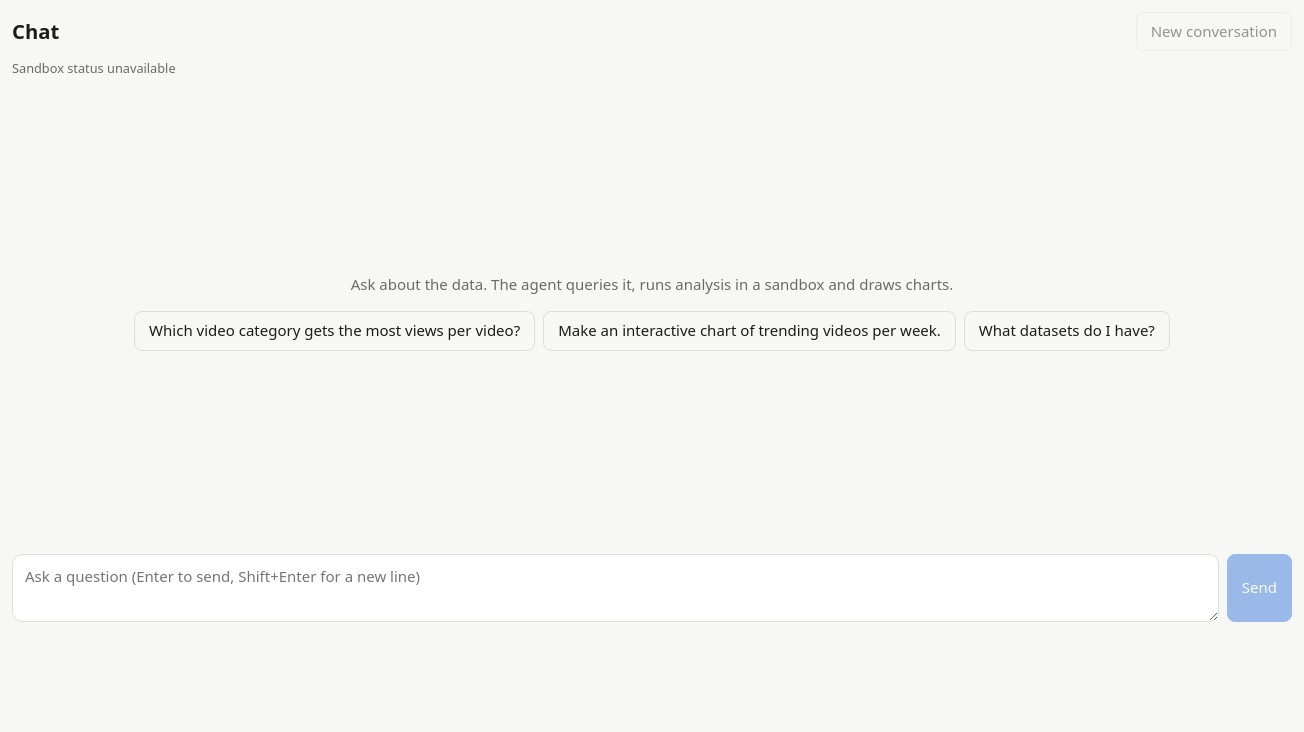
it: ChatPage › shows why a message was refused
The image size is (1304, 732).
Type "hi" into the text box named "Message".
click(615, 588); type("hi")  # box top-left (12, 554), bottom-right (1219, 622)
Then press Enter
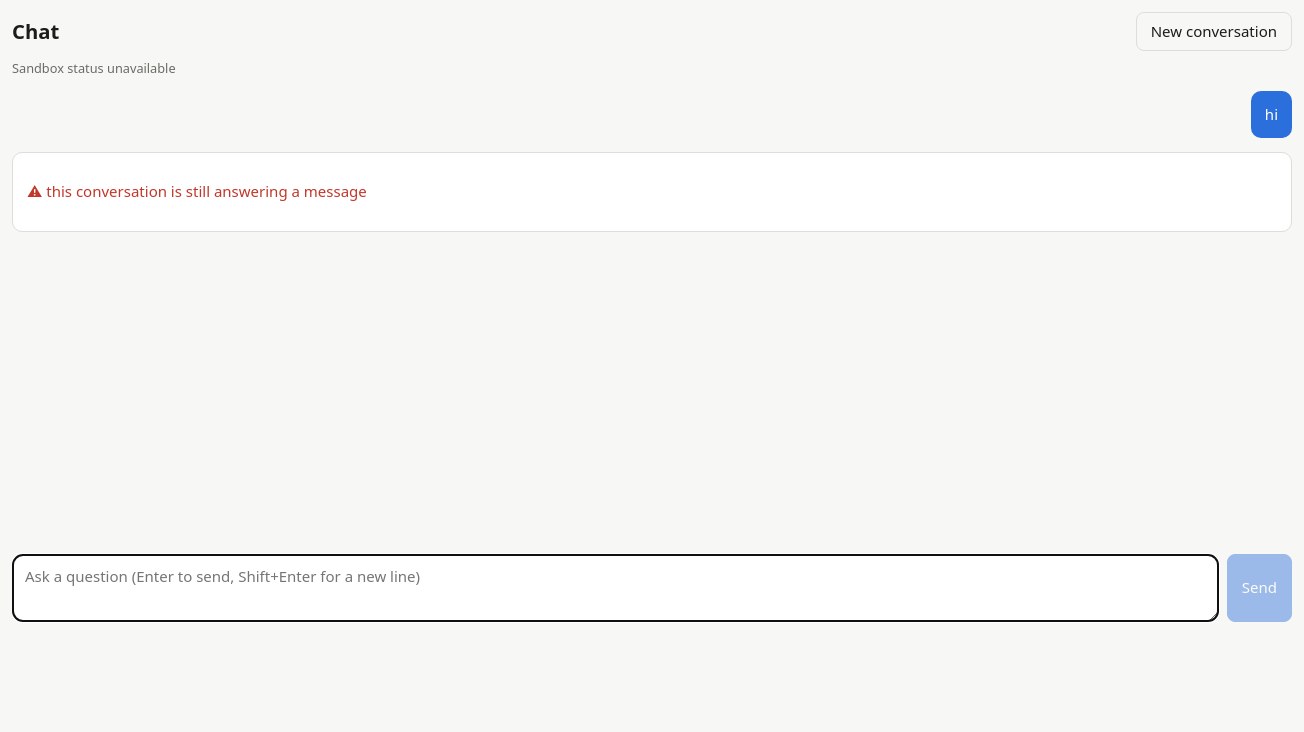
Result: the text "⚠ this conversation is still answering a message" is shown at top-left (27, 181), bottom-right (367, 201)
